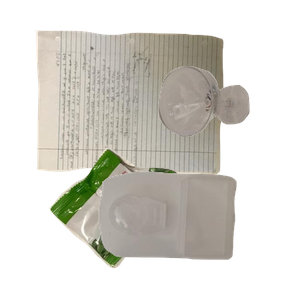glass: (156, 64, 300, 194)
paper: (32, 28, 249, 196)
plastic: (96, 169, 300, 300)
trash: (47, 146, 220, 300)
